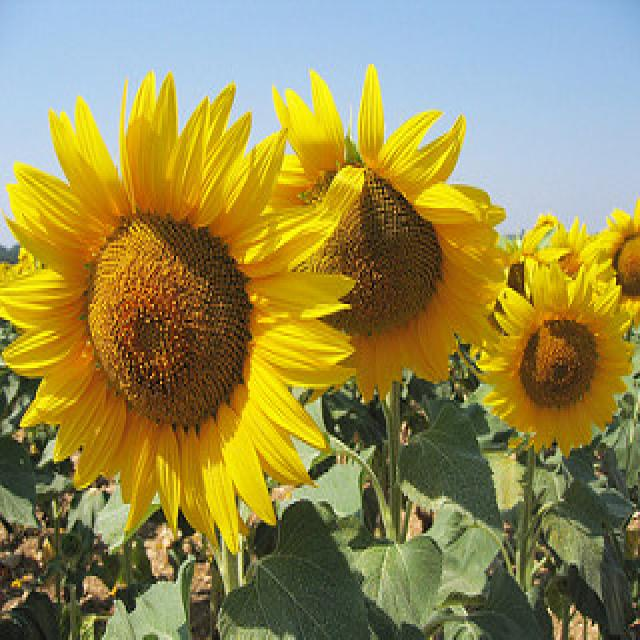sunflower: (0, 63, 360, 553), (264, 57, 512, 412), (478, 245, 640, 464), (586, 194, 640, 330)
